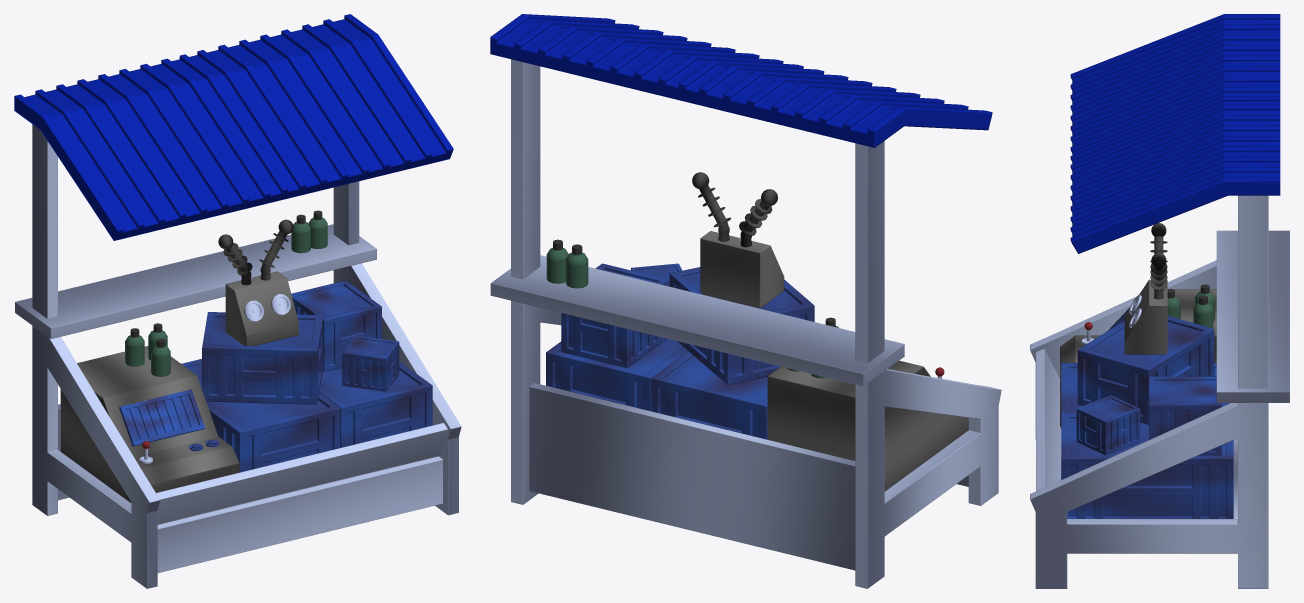
Rendered from Mesh_stall.fbx.
3 renders of one model, left to right at view 1: azimuth 30°, elevation 25°; view 2: azimuth 150°, elevation 25°; view 3: azimuth 270°, elevation 25°, orthographic. The views are drawn at different scales.
Visible parts, largest first — view 1: Mesh_stall; view 2: Mesh_stall; view 3: Mesh_stall.
Boxes of the visible parts, bbox=[...] form: Mesh_stall: bbox=[14, 14, 461, 588]; Mesh_stall: bbox=[490, 14, 1001, 588]; Mesh_stall: bbox=[1030, 14, 1289, 588].
Bounding box in the file's own units: 52.28 × 60.61 × 34.44.
